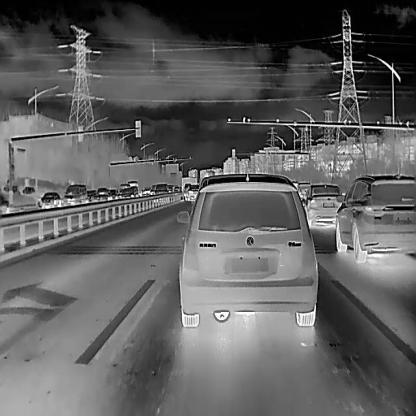car: (177, 173, 317, 327), (335, 174, 415, 261), (303, 183, 342, 227), (63, 184, 87, 206), (39, 191, 61, 208), (185, 184, 200, 201), (121, 186, 138, 198), (154, 182, 167, 194), (96, 186, 107, 200), (108, 188, 118, 202), (86, 190, 96, 202), (127, 180, 138, 187), (119, 182, 130, 188)
